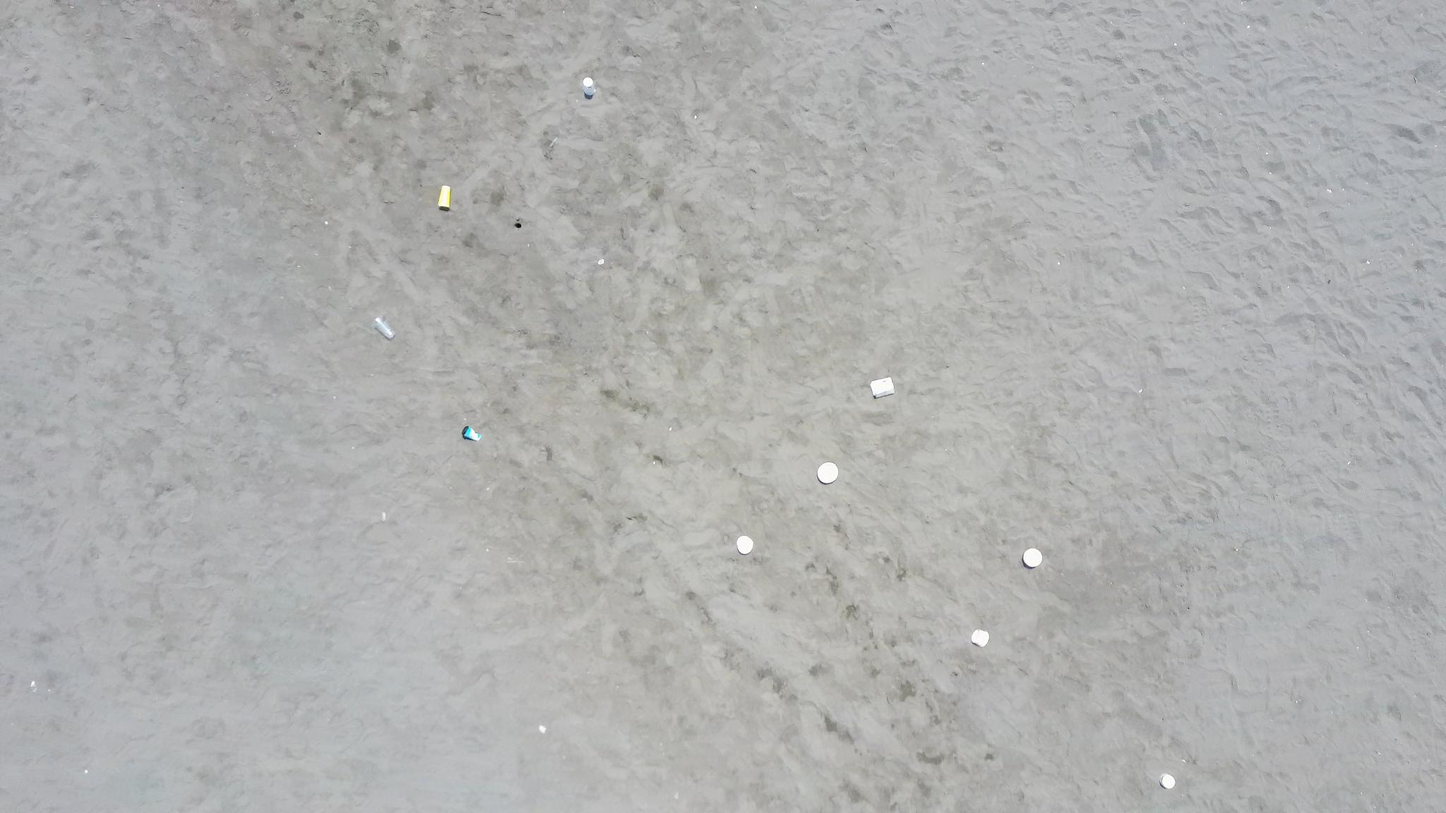Garbage: (870, 376, 893, 397), (816, 462, 838, 483), (373, 317, 392, 339), (1021, 547, 1041, 567), (438, 184, 450, 210), (737, 535, 753, 553), (972, 630, 988, 646), (582, 77, 594, 98), (462, 426, 479, 440), (1160, 775, 1175, 789), (537, 724, 546, 733), (515, 218, 522, 229), (597, 258, 604, 265)
